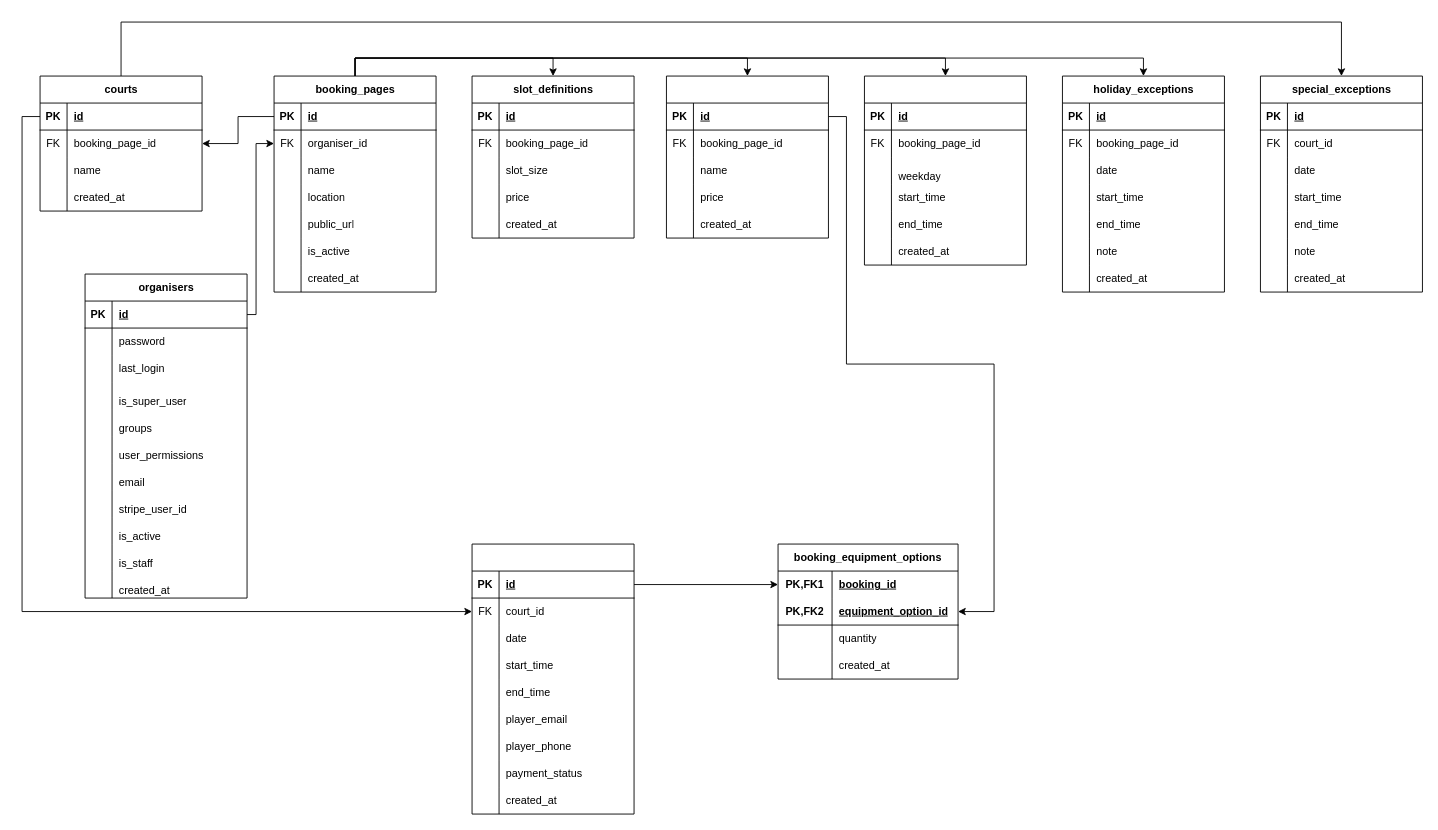
The diagram is 1438 pixels wide and 830 high, and some of its shapes have lost their labels. The box of each missing label's shape, as (x1, y1, x2, y2) in pixels:
bookings: (471, 543, 634, 814)
equipment_options: (666, 75, 828, 238)
opening_hour_rules: (864, 75, 1026, 265)
